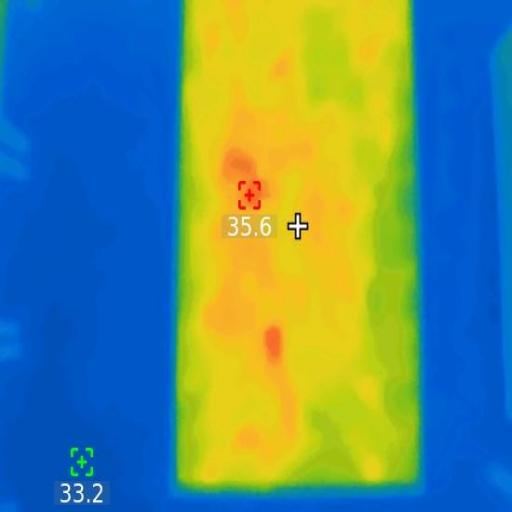hotspot: (224, 151, 253, 181), (265, 329, 283, 363)
